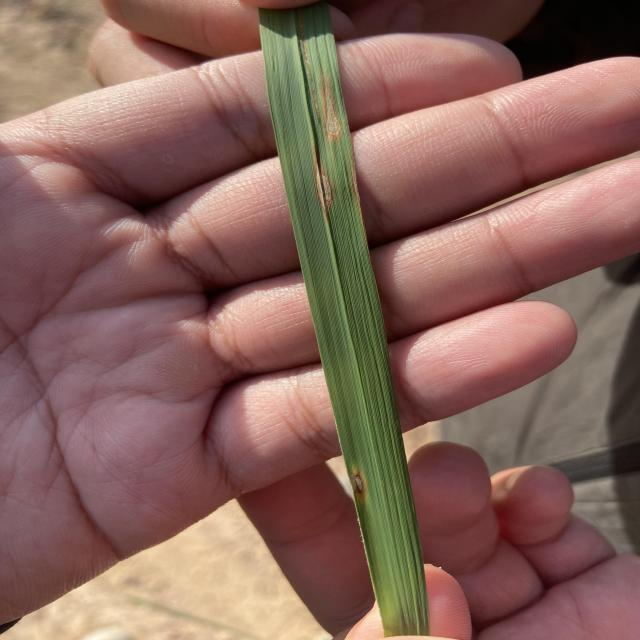Dao on: (313, 146, 333, 220), (321, 72, 342, 141), (352, 154, 360, 202), (354, 475, 364, 493)
